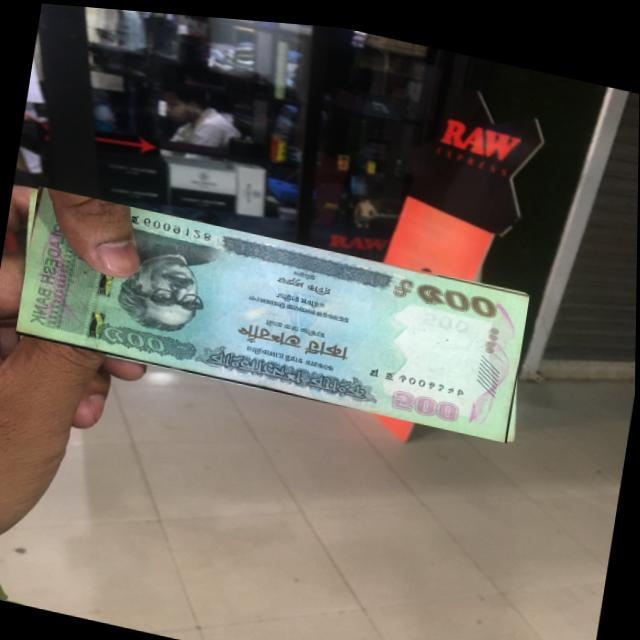Taka: (16, 184, 531, 436)
